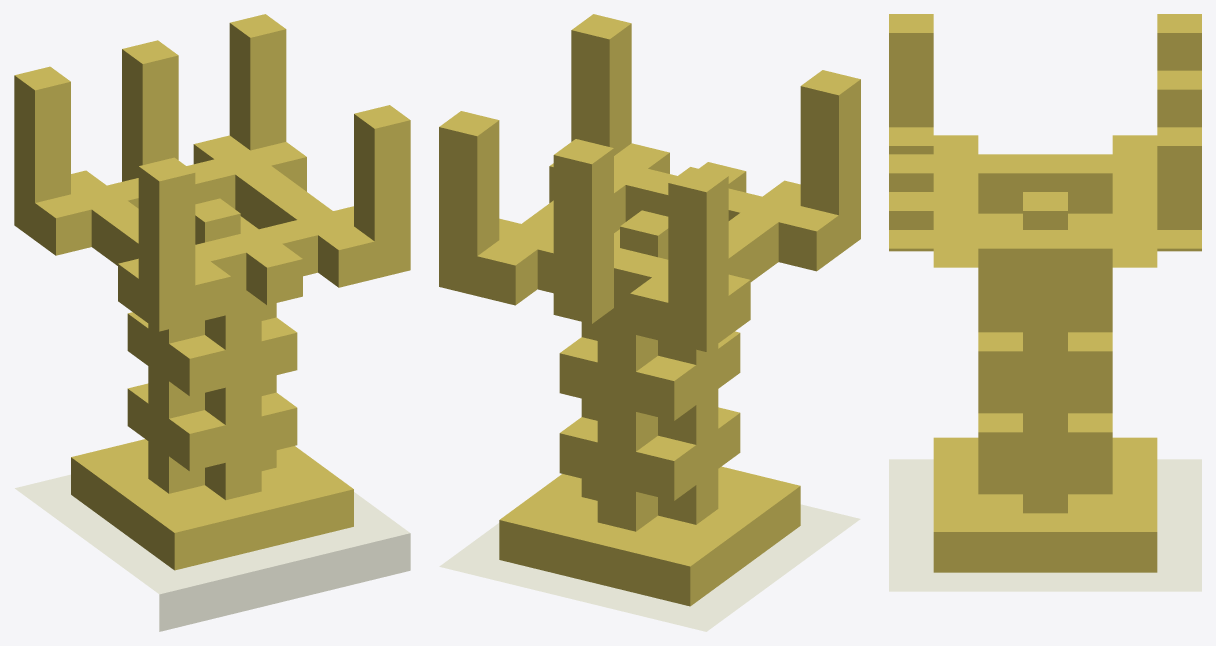
File: king-b.glb
3 views of the same model, side by side, from view 1: azimuth 30°, elevation 25°; view 2: azimuth 150°, elevation 25°; view 3: azimuth 270°, elevation 25° (orthographic). The views are drawn at different scales.
Visible parts, largest first — view 1: root; view 2: root; view 3: root.
Part boxes in pixels (x1=…): root: x1=14, y1=14, x2=410, y2=631; root: x1=439, y1=14, x2=860, y2=631; root: x1=889, y1=14, x2=1201, y2=591.
Size of the model in its own units: 1 by 1.71 by 1.
Materials: 1 (1 with a texture image).
